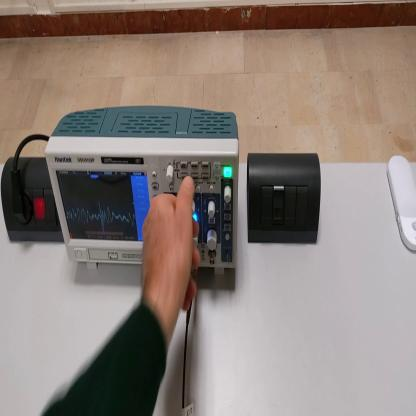hand: (140, 179, 201, 315)
oscilloscope: (45, 104, 241, 276)
socket: (3, 158, 67, 243)
